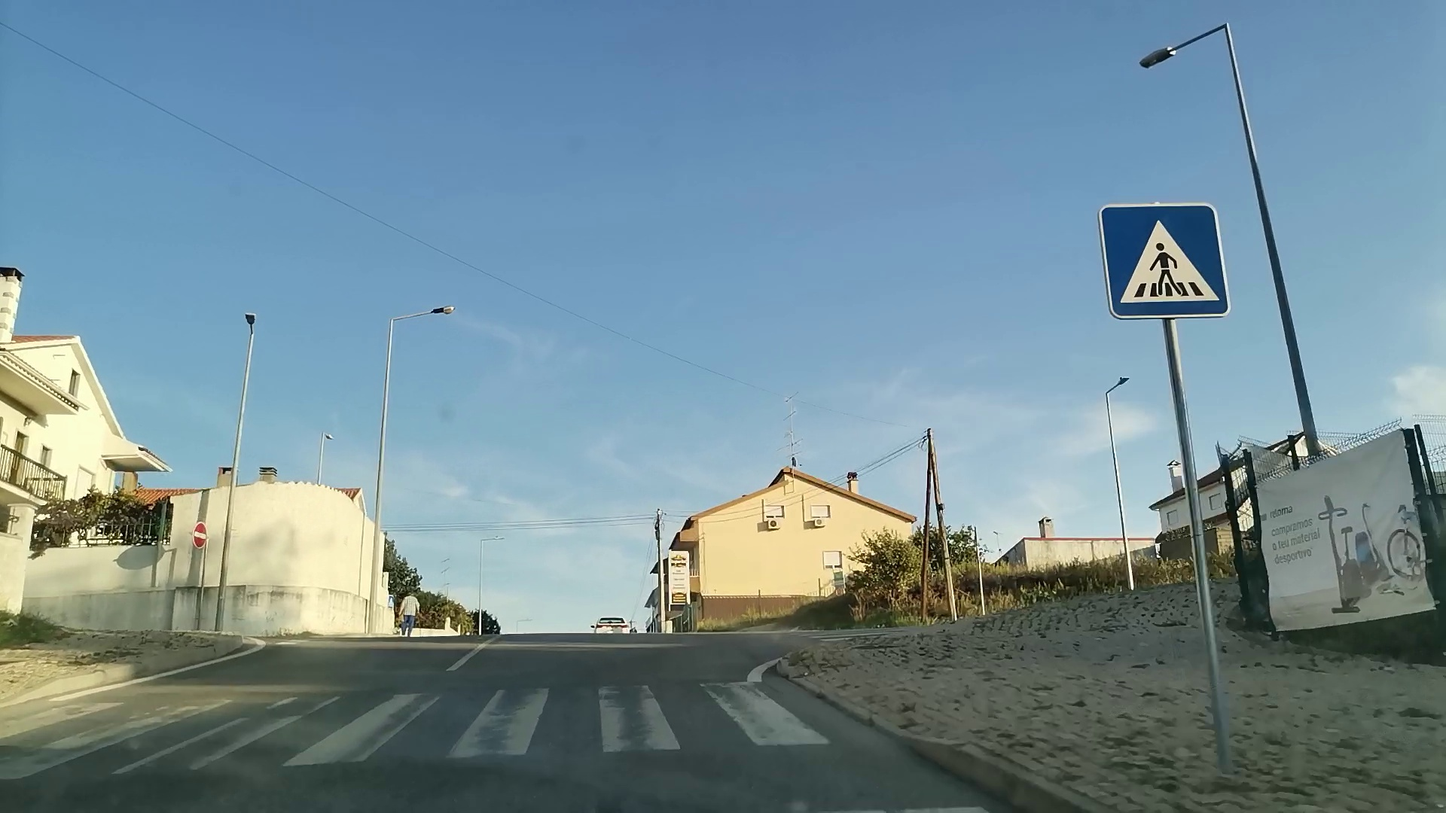Stairs: (0, 681, 836, 774)
